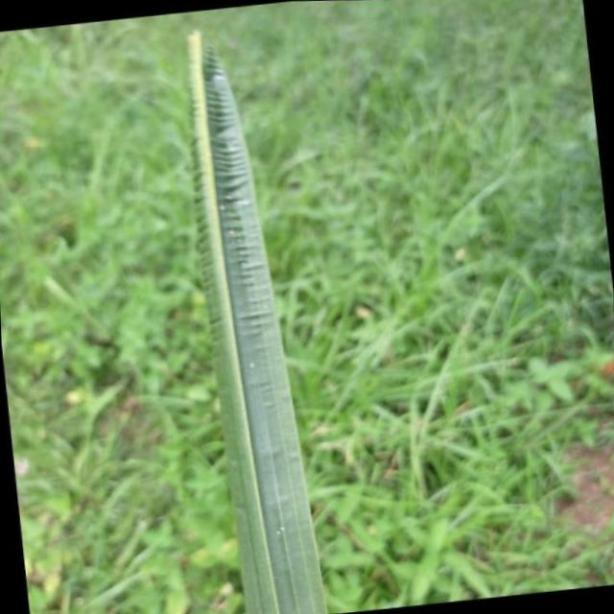Boron: (180, 27, 322, 614)
